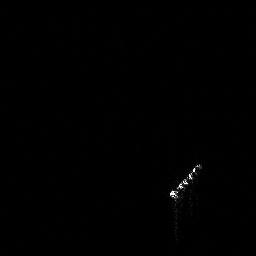ship: (165, 159, 206, 203)
